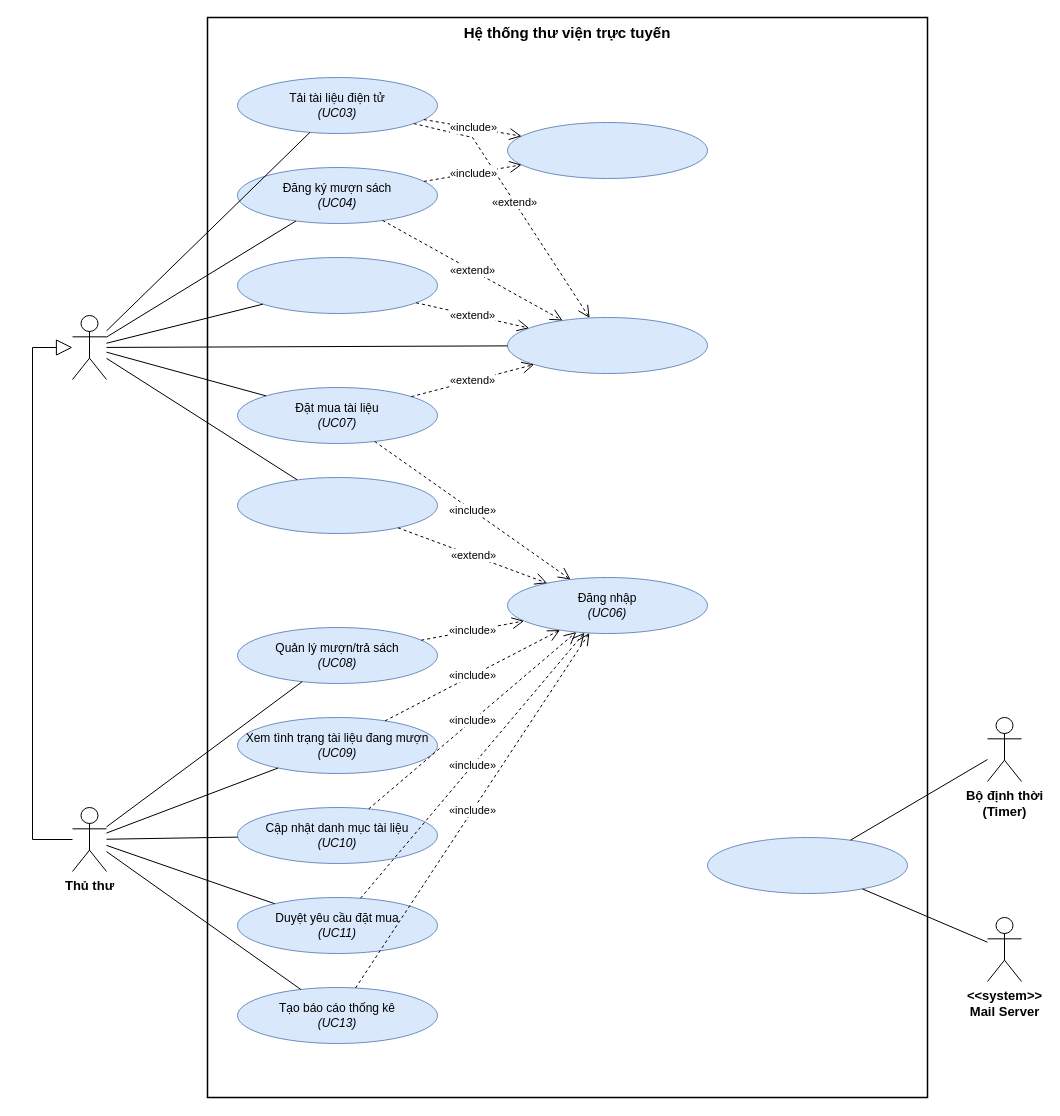
This 1060x1116 diagram has some shape labels left out. Each missing label, with the box of its shape:
Gửi email nhắc hạn trả sách (UC12): (706, 836, 908, 894)
Tìm kiếm tài liệu (UC01): (506, 316, 708, 374)
Xác thực mã thẻ thư viện (UC14): (506, 122, 708, 178)
Đăng ký tài khoản (UC05): (236, 476, 438, 534)
Đọc tài liệu trực tuyến (UC02): (236, 256, 438, 314)
Độc giả: (72, 314, 106, 380)
